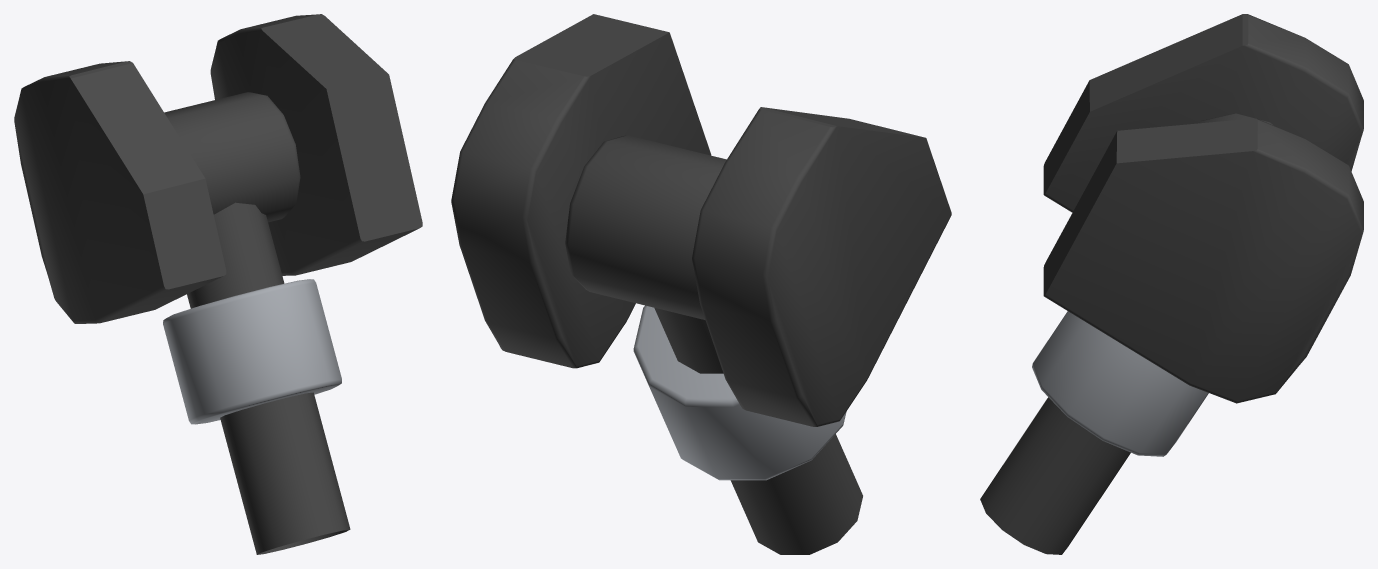
File: Weapon_pao01_sunhuai.FBX
3 views of the same model, side by side, from view 1: azimuth 30°, elevation 25°; view 2: azimuth 150°, elevation 25°; view 3: azimuth 270°, elevation 25° (orthographic). The views are drawn at different scales.
Parts seen in each view (by area): view 1: Weapon_pao01_sunhuai; view 2: Weapon_pao01_sunhuai; view 3: Weapon_pao01_sunhuai.
Part boxes in pixels (left/top/right/bottom): Weapon_pao01_sunhuai: left=14, top=14, right=422, bottom=554; Weapon_pao01_sunhuai: left=451, top=14, right=951, bottom=554; Weapon_pao01_sunhuai: left=980, top=14, right=1363, bottom=554.
Size of the model in its own units: 0.6025 by 0.9861 by 0.7335.
1 material, 1 textured.
